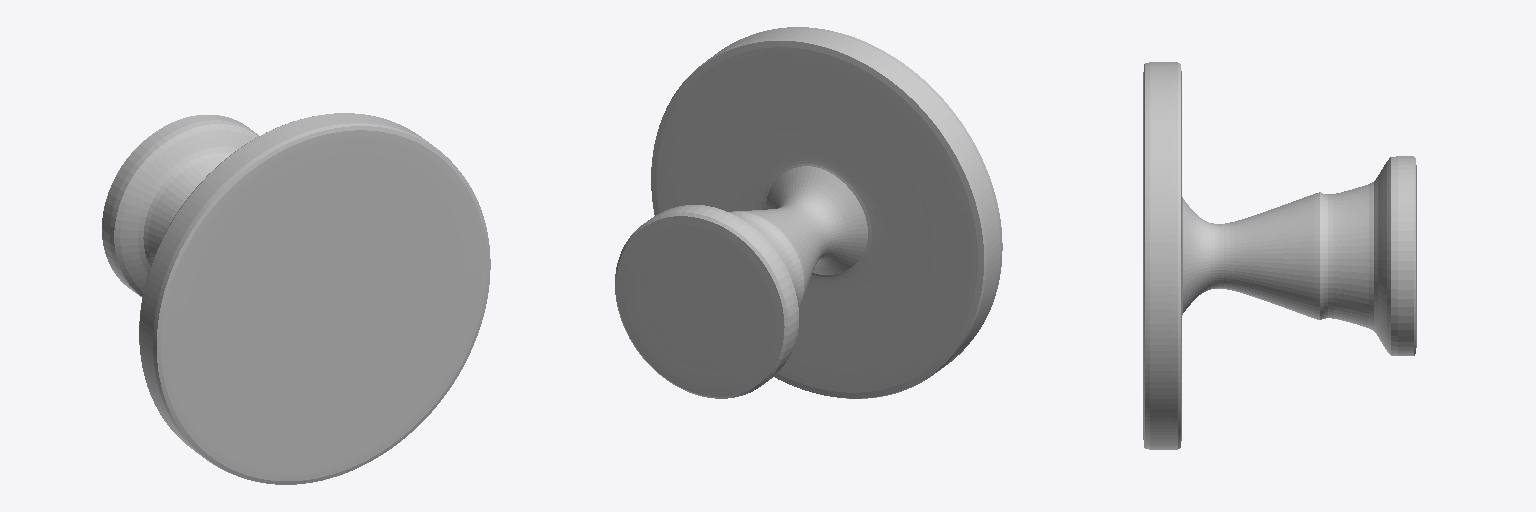
The picture shows the model from 3 angles: view 1: azimuth 30°, elevation 25°; view 2: azimuth 150°, elevation 25°; view 3: azimuth 270°, elevation 25°; orthographic projection.
Parts seen in each view (by area): view 1: table; view 2: table; view 3: table.
Part boxes in pixels (x1,y1,x2,y2): table: (102,113,490,484); table: (615,27,1002,398); table: (1143,62,1416,449).
Bounding box in the file's own units: 1.27 × 1.27 × 0.8929.